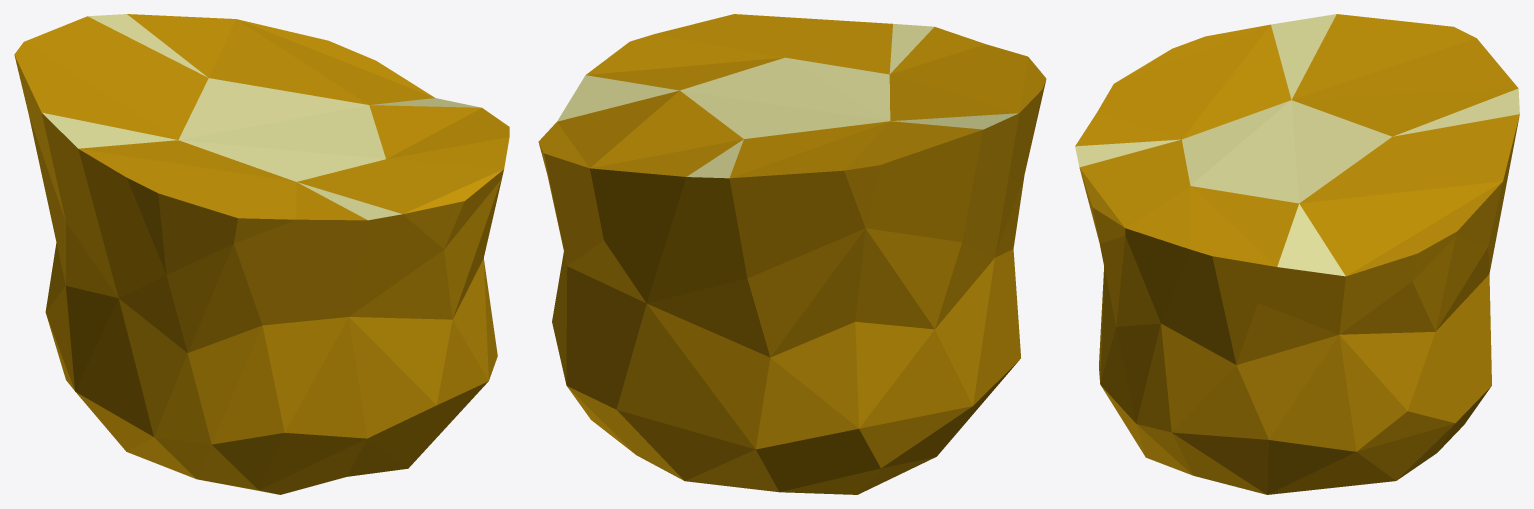
File: Paprika_2.fbx
3 renders of one model, left to right at view 1: azimuth 30°, elevation 25°; view 2: azimuth 150°, elevation 25°; view 3: azimuth 270°, elevation 25°, orthographic. The views are drawn at different scales.
Parts seen in each view (by area): view 1: Cylinder.015; view 2: Cylinder.015; view 3: Cylinder.015.
Part boxes in pixels (x1,y1,x2,y2): Cylinder.015: (14,14,509,494); Cylinder.015: (538,14,1046,494); Cylinder.015: (1075,14,1519,494).
Bounding box in the file's own units: 192 × 161 × 190.
